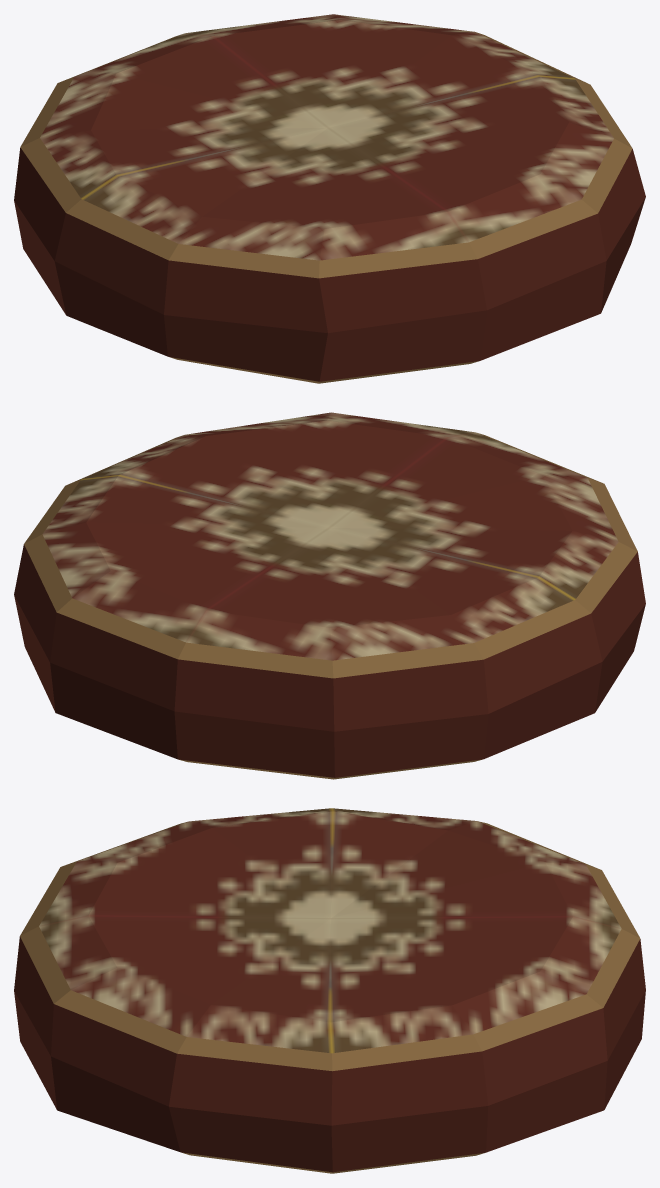
File: SM_Prop_Pillow_01.glb
3 renders of one model, top to bottom at view 1: azimuth 30°, elevation 25°; view 2: azimuth 150°, elevation 25°; view 3: azimuth 270°, elevation 25°, orthographic.
Visible parts, largest first — view 1: SM_Prop_Pillow_01; view 2: SM_Prop_Pillow_01; view 3: SM_Prop_Pillow_01.
Part boxes in pixels (bbox=[...]): SM_Prop_Pillow_01: bbox=[14, 14, 645, 383]; SM_Prop_Pillow_01: bbox=[14, 412, 645, 779]; SM_Prop_Pillow_01: bbox=[14, 808, 645, 1173].
Size of the model in its own units: 0.5925 by 0.1541 by 0.5878.
Materials: 1 (1 with a texture image).
